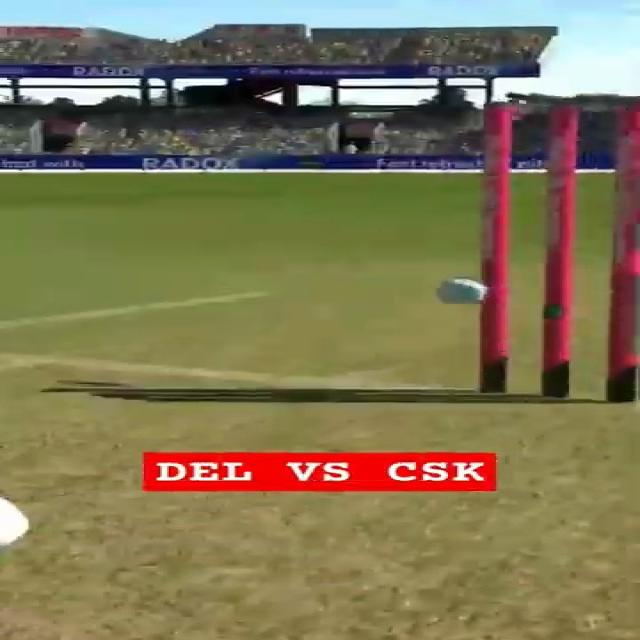ball: (432, 274, 489, 306)
